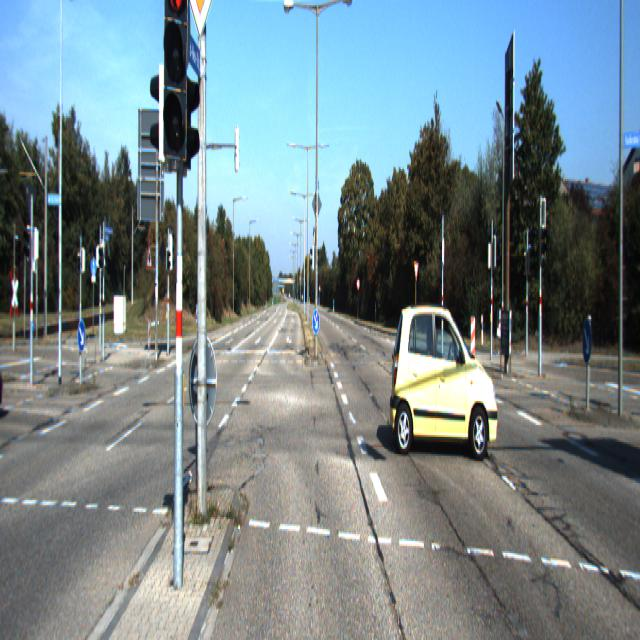Car: (391, 300, 500, 462)
